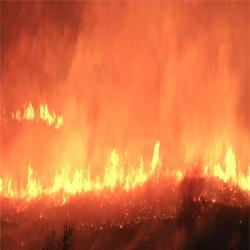fire: (58, 169, 141, 189), (212, 151, 250, 184), (19, 103, 56, 126), (25, 172, 41, 199)
